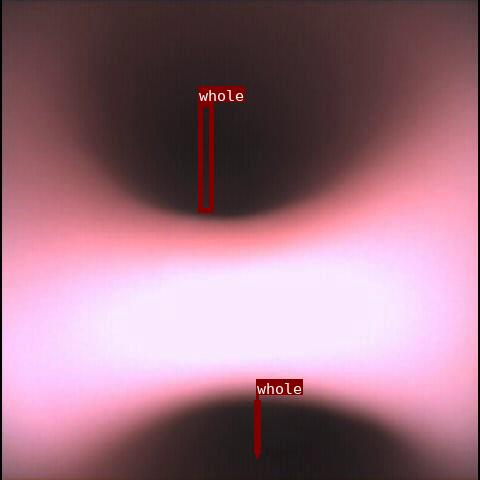whole: (198, 102, 213, 212), (256, 395, 258, 458)
